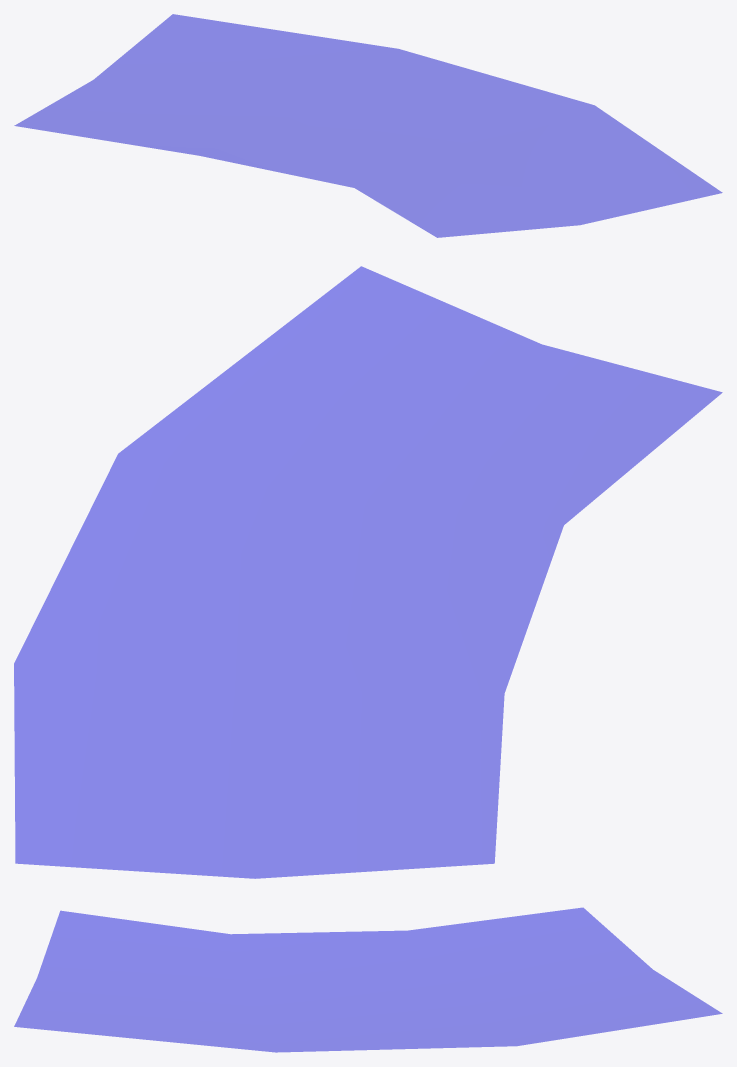
File: track_la_coll_road_47.fbx
3 renders of one model, top to bottom at view 1: azimuth 30°, elevation 25°; view 2: azimuth 150°, elevation 25°; view 3: azimuth 270°, elevation 25°, orthographic. The views are drawn at different scales.
Parts seen in each view (by area): view 1: track_la_coll_road_47; view 2: track_la_coll_road_47; view 3: track_la_coll_road_47.
Boxes of the visible parts, x1,y1,x2,y2 form: track_la_coll_road_47: (14, 14, 722, 237); track_la_coll_road_47: (14, 266, 722, 878); track_la_coll_road_47: (14, 907, 722, 1052).
Bounding box in the file's own units: 33.52 × 5.76 × 54.5.
